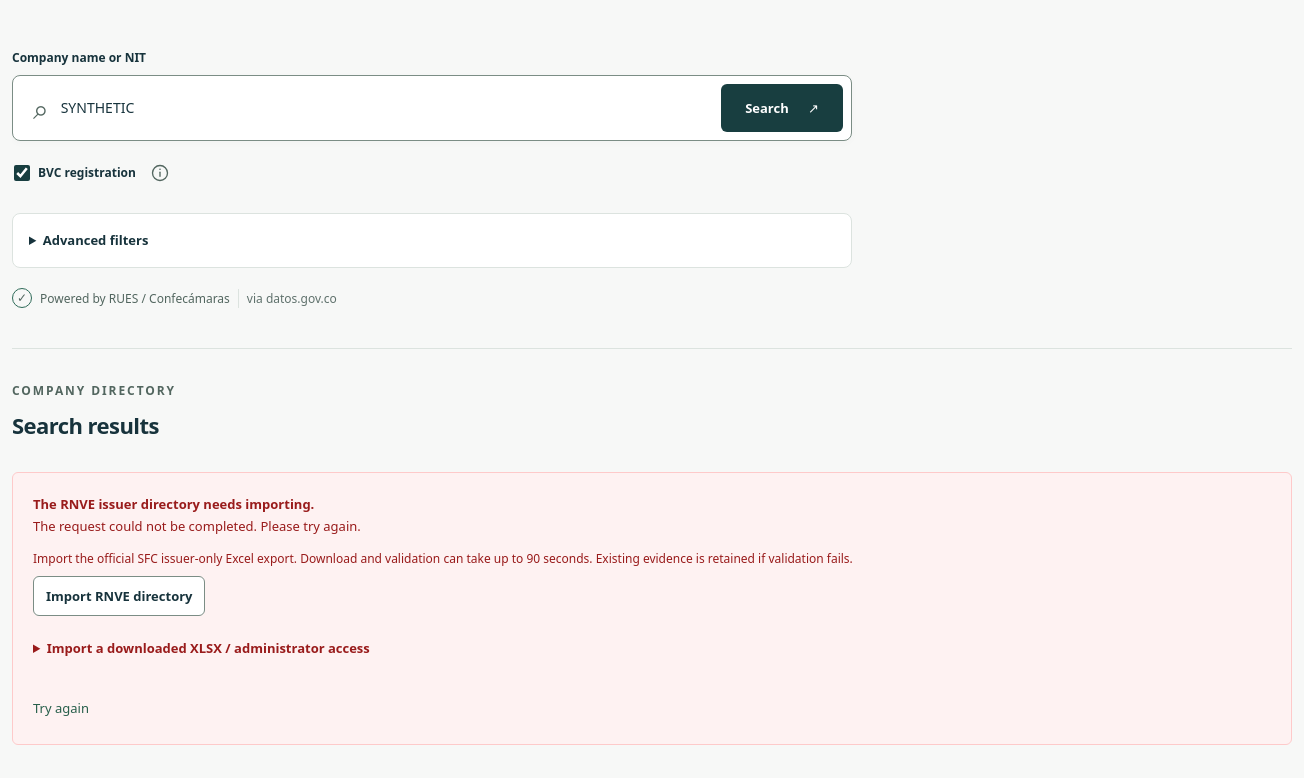
Test case: missing-directory search alert executes import then retries the blocked search
Click the button "Import RNVE directory": [119, 596] box [33, 576, 206, 616]
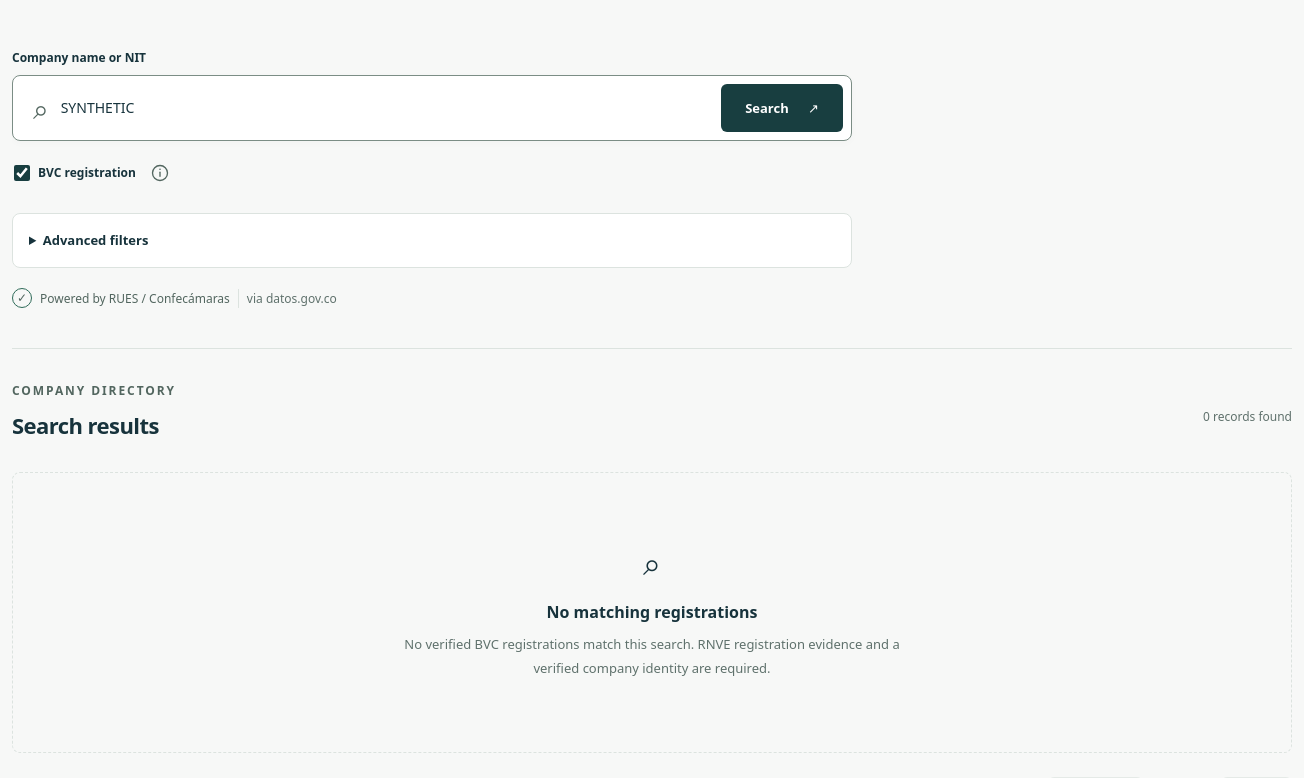
Check: the heading "No matching registrations" is shown, box [546, 601, 757, 623]
